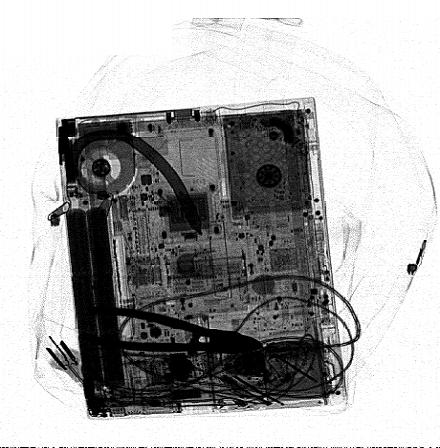Pliers: (77, 305, 267, 355)
